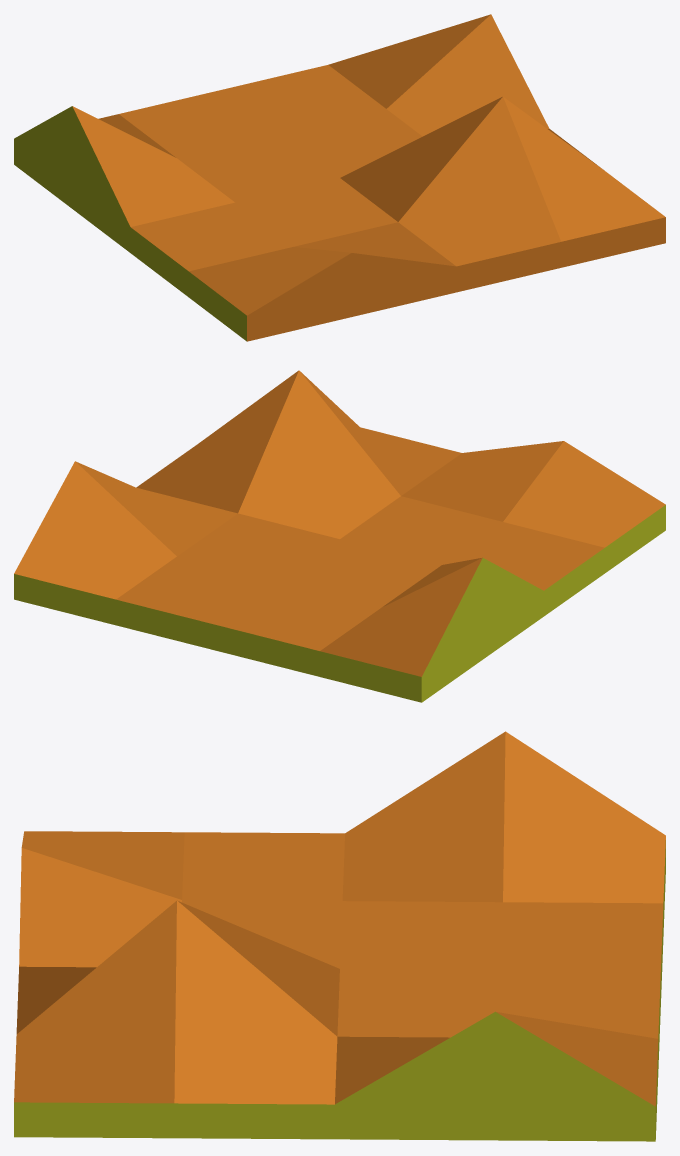
File: ground.fbx
3 views of the same model, one above another, from view 1: azimuth 30°, elevation 25°; view 2: azimuth 150°, elevation 25°; view 3: azimuth 270°, elevation 25° (orthographic). The views are drawn at different scales.
Parts seen in each view (by area): view 1: Cube.011; view 2: Cube.011; view 3: Cube.011.
Boxes of the visible parts, x1,y1,x2,y2 form: Cube.011: (14,14,665,341); Cube.011: (14,370,665,702); Cube.011: (14,731,665,1141).
Bounding box in the file's own units: 11613 × 3342 × 11613.
